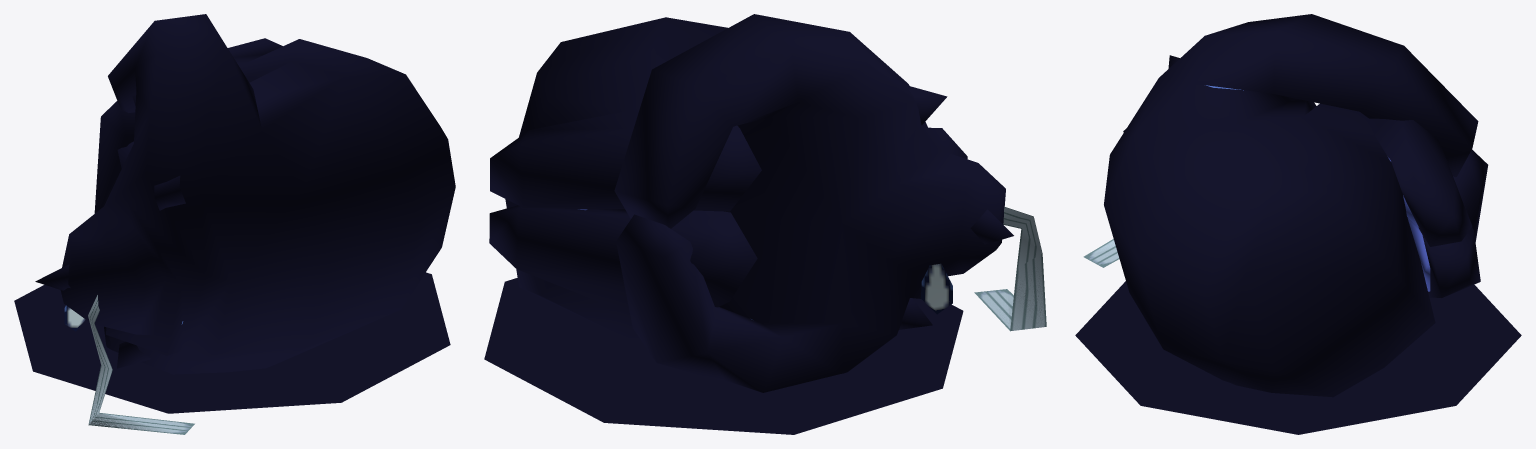
The model's file is icon02.ico.obj.
3 renders of one model, left to right at view 1: azimuth 30°, elevation 25°; view 2: azimuth 150°, elevation 25°; view 3: azimuth 270°, elevation 25°, orthographic. The views are drawn at different scales.
Bounding box in the file's own units: 3.32 × 2.17 × 2.92.
1 material, 1 textured.
